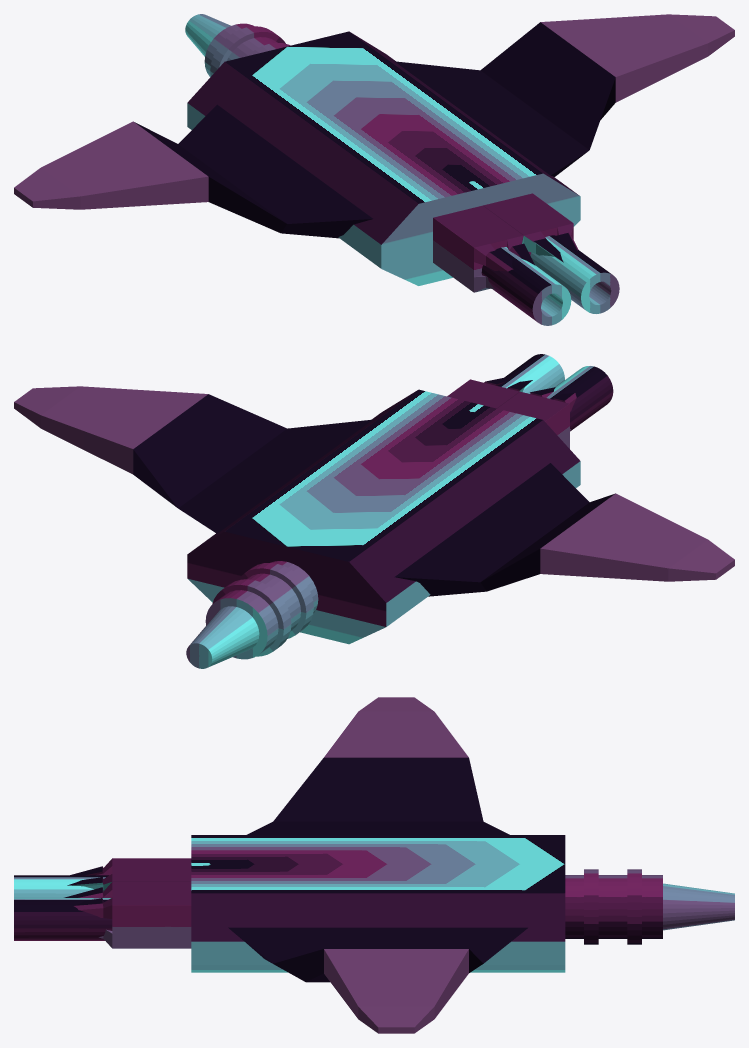
File: player.glb
The picture shows the model from 3 angles, top to bottom: view 1: azimuth 30°, elevation 25°; view 2: azimuth 150°, elevation 25°; view 3: azimuth 270°, elevation 25°; orthographic projection. The views are drawn at different scales.
Parts seen in each view (by area): view 1: Wings, Body, Engine, Jets, Weapon; view 2: Wings, Body, Weapon, Jets, Engine; view 3: Body, Wings, Weapon, Engine, Jets.
Boxes of the visible parts, x1,y1,x2,y2 form: Wings: [14, 14, 734, 238]; Body: [187, 31, 580, 285]; Engine: [433, 193, 578, 292]; Jets: [481, 235, 619, 325]; Weapon: [185, 14, 290, 77]; Wings: [14, 386, 734, 596]; Body: [187, 389, 580, 644]; Weapon: [186, 561, 318, 668]; Jets: [497, 354, 613, 431]; Engine: [447, 377, 576, 448]; Body: [191, 835, 565, 972]; Wings: [228, 697, 527, 1033]; Weapon: [565, 869, 734, 944]; Engine: [64, 858, 191, 948]; Jets: [14, 875, 112, 940].
Bounding box in the file's own units: 10.14 × 1.29 × 9.36.
1 material, 1 textured.
